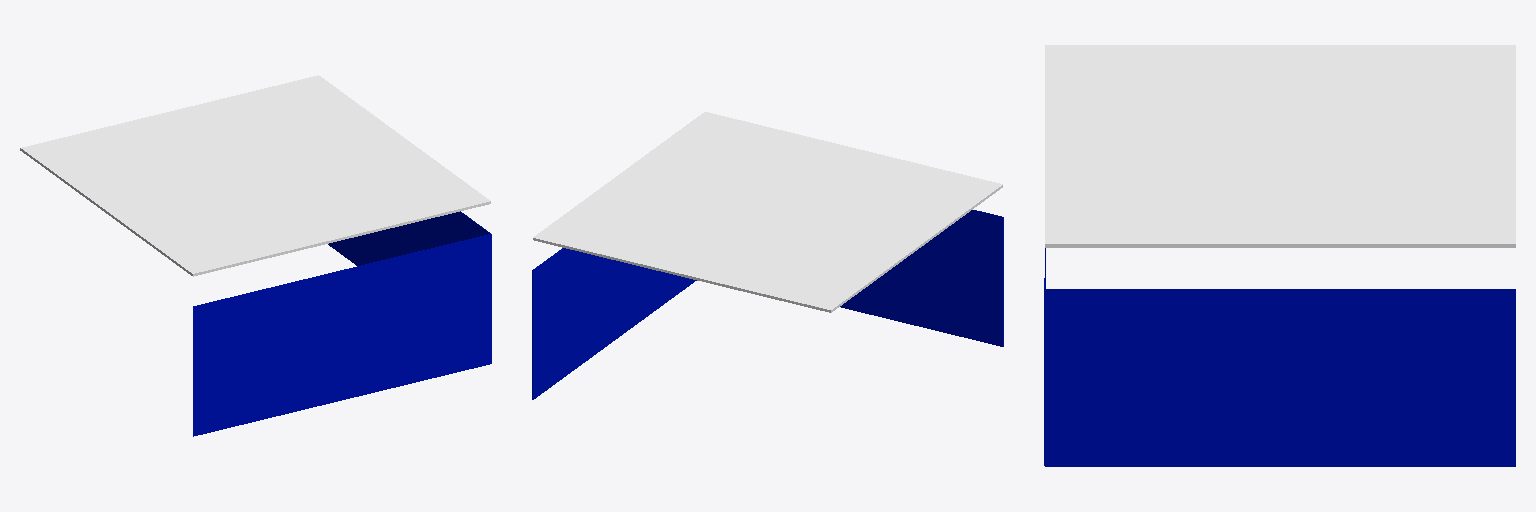
robot.urdf — walls:
<?xml version="1.0"?>
<robot name="walls">
  <material name="White">
    <color rgba="0.8 0.8 0.8 0.9"/>
  </material>
  <material name="Blue">
    <color rgba="0 0.1 0.8 0.9"/>
  </material>
  <material name="Red">
    <color rgba="1 0 0 1"/>
  </material>
  <material name="Green">
    <color rgba="0 1 0 1"/>
  </material>
  <material name="Gray">
    <color rgba="0.6 0.6 0.6 1"/>
  </material>
  <material name="Black"><!-- or brown-->
    <color rgba="0.2 0.1 0.1 1"/>
  </material>
     
  <link name="wall_base">
    <inertial>
      <origin xyz="0 0 0" rpy="0 0 0"/>
      <mass value="1.0" />
      <inertia  ixx="1.0" ixy="0.0"  ixz="0.0"  iyy="100.0"  iyz="0.0"  izz="1.0" />
    </inertial>
    <visual>
      <origin xyz="0 0 -0.01" rpy="0 0 0"/>
      <geometry>
        <box size="0.01 0.01 0.01"/>
      </geometry>
      <material name="White"/>
    </visual>
    <!--<collision>
      <origin xyz="0 0 0" rpy="0 0 0"/>
      <geometry>
        <box size="6 6 0.01"/>
      </geometry>
    </collision>-->
  </link>
  
  <joint name="j_wall_one" type="fixed">
    <parent link="wall_base"/>
    <child link="l_wall_one"/>
    <origin rpy="0 0 0" xyz="0 0 0"/>
  </joint>
        
  <link name="l_wall_one">
    <inertial>
      <origin xyz="0 0 0" rpy="0 0 0"/>
      <mass value="1.0" />
      <inertia  ixx="1.0" ixy="0.0"  ixz="0.0"  iyy="100.0"  iyz="0.0"  izz="1.0" />
    </inertial>
    <visual>
      <origin xyz="3 0 1.25" rpy="0 0 0"/>
      <geometry>
        <box size=".01 6 2.5"/>
      </geometry>
      <material name="Blue"/>
    </visual>
    <collision>
      <origin xyz="3 0 1.25" rpy="0 0 0"/>
      <geometry>
        <box size=".01 6 2.5"/>
      </geometry>
    </collision>
  </link>
  

  <!--<joint name="j_wall_two" type="fixed">
    <parent link="wall_base"/>
    <child link="l_wall_two"/>
    <origin rpy="0 0 0" xyz="0 0 0"/>
  </joint>
        
  <link name="l_wall_two">
    <inertial>
      <origin xyz="0 0 0" rpy="0 0 0"/>
      <mass value="1.0" />
      <inertia  ixx="1.0" ixy="0.0"  ixz="0.0"  iyy="100.0"  iyz="0.0"  izz="1.0" />
    </inertial>
    <visual>
      <origin xyz="-3 0 1.25" rpy="0 0 0"/>
      <geometry>
        <box size=".01 6 2.5"/>
      </geometry>
      <material name="White"/>
    </visual>
    <collision>
      <origin xyz="-3 0 1.25" rpy="0 0 0"/>
      <geometry>
        <box size=".01 6 2.5"/>
      </geometry>
    </collision>
  </link>-->
  
  
  <!--<joint name="j_wall_three" type="fixed">
    <parent link="wall_base"/>
    <child link="l_wall_three"/>
    <origin rpy="0 0 0" xyz="0 0 0"/>
  </joint>
        
  <link name="l_wall_three">
    <inertial>
      <origin xyz="0 0 0" rpy="0 0 0"/>
      <mass value="1.0" />
      <inertia  ixx="1.0" ixy="0.0"  ixz="0.0"  iyy="100.0"  iyz="0.0"  izz="1.0" />
    </inertial>
    <visual>
      <origin xyz="0 3 0.6" rpy="0 0 1.57"/>
      <geometry>
        <box size=".01 6 1.2"/>
      </geometry>
      <material name="Green"/>
    </visual>
    <collision>
      <origin xyz="0 3 0.6" rpy="0 0 1.57"/>
      <geometry>
        <box size=".01 6 1.2"/>
      </geometry>
    </collision>
  </link>-->
  
  
  <joint name="j_wall_four" type="fixed">
    <parent link="wall_base"/>
    <child link="l_wall_four"/>
    <origin rpy="0 0 0" xyz="0 0 0"/>
  </joint>
        
  <link name="l_wall_four">
    <inertial>
      <origin xyz="0 0 0" rpy="0 0 0"/>
      <mass value="1.0" />
      <inertia  ixx="1.0" ixy="0.0"  ixz="0.0"  iyy="100.0"  iyz="0.0"  izz="1.0" />
    </inertial>
    <visual>
      <origin xyz="0 -3 1.25" rpy="0 0 1.57"/>
      <geometry>
        <box size=".01 6 2.5"/>
      </geometry>
      <material name="Blue"/>
    </visual>
    <collision>
      <origin xyz="0 -3 1.25" rpy="0 0 1.57"/>
      <geometry>
        <box size=".01 6 2.5"/>
      </geometry>
    </collision>
  </link>

  <joint name="j_wall_roof" type="fixed">
    <parent link="wall_base"/>
    <child link="l_wall_roof"/>
    <origin rpy="0 0 0" xyz="0 0 0"/>
  </joint>

  <link name="l_wall_roof">
    <inertial>
      <origin xyz="0 0 0" rpy="0 0 0"/>
      <mass value="1.0" />
      <inertia  ixx="1.0" ixy="0.0"  ixz="0.0"  iyy="100.0"  iyz="0.0"  izz="1.0" />
    </inertial>
    <visual>
      <origin xyz="0 0 3.1" rpy="0 0 0"/>
      <geometry>
        <box size="6 6 0.05"/>
      </geometry>
      <material name="noColor">
        <color rgba="1 1 1 0.1"/>
      </material>
    </visual>
    <collision>
      <origin xyz="0 0 3.1" rpy="0 0 0"/>
      <geometry>
        <box size="6 6 0.05"/>
      </geometry>
    </collision>
  </link>
</robot>

--- Facts derived from the render (not from the file) ---
The picture shows the robot from 3 angles, left to right: view 1: azimuth 30°, elevation 25°; view 2: azimuth 150°, elevation 25°; view 3: azimuth 270°, elevation 25°; orthographic projection.
Model walls with 4 links and 3 joints (3 fixed), rooted at wall_base, posed every joint at zero.
Links seen in each view (by area): view 1: l_wall_roof, l_wall_four, l_wall_one; view 2: l_wall_roof, l_wall_one, l_wall_four; view 3: l_wall_roof, l_wall_one.
Boxes of the visible links, <box> form: l_wall_roof: <box>20,75,490,276</box>; l_wall_four: <box>193,234,490,436</box>; l_wall_one: <box>328,211,491,363</box>; l_wall_roof: <box>533,112,1002,312</box>; l_wall_one: <box>532,248,696,399</box>; l_wall_four: <box>840,210,1003,346</box>; l_wall_roof: <box>1045,45,1515,247</box>; l_wall_one: <box>1045,289,1515,466</box>.
Size in the robot's own frame: 6 by 6.01 by 3.14 metres.
Geometry: primitives only (box / cylinder / sphere), no mesh files.
